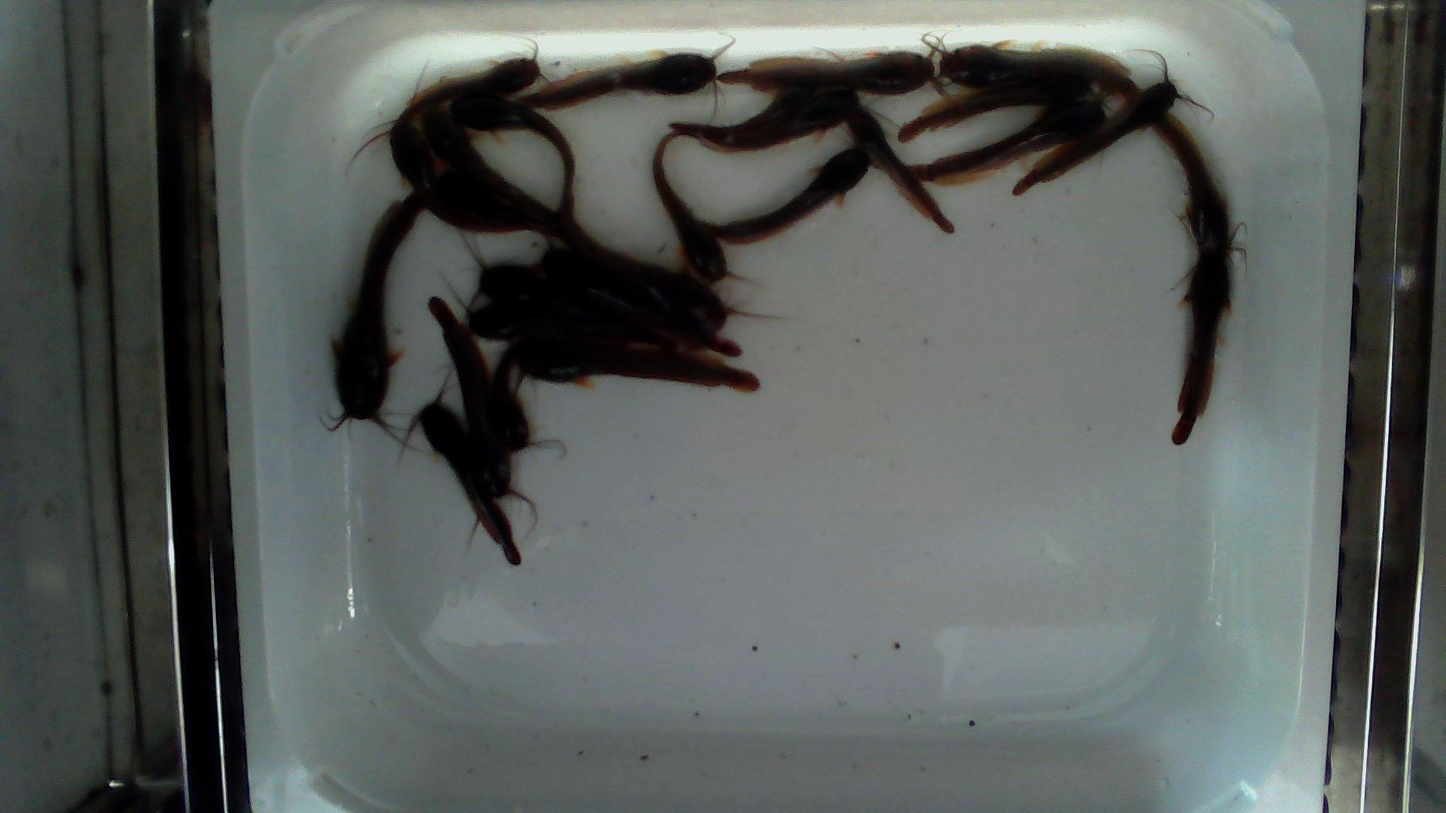lele: (559, 194, 786, 335), (1014, 50, 1214, 197), (321, 193, 426, 451), (460, 232, 678, 339), (398, 380, 521, 564), (541, 247, 743, 356), (351, 123, 534, 233), (520, 33, 736, 121), (429, 297, 521, 499), (905, 99, 1107, 183), (425, 113, 566, 228), (707, 147, 870, 245), (714, 36, 954, 100), (653, 132, 754, 284), (399, 34, 561, 128), (448, 283, 678, 345), (848, 108, 955, 234), (898, 73, 1090, 143), (514, 338, 758, 392), (451, 97, 574, 200), (675, 89, 861, 150), (939, 43, 1142, 97), (1156, 109, 1228, 258), (1174, 247, 1228, 445), (493, 339, 572, 455), (440, 168, 550, 237), (684, 85, 819, 132)
